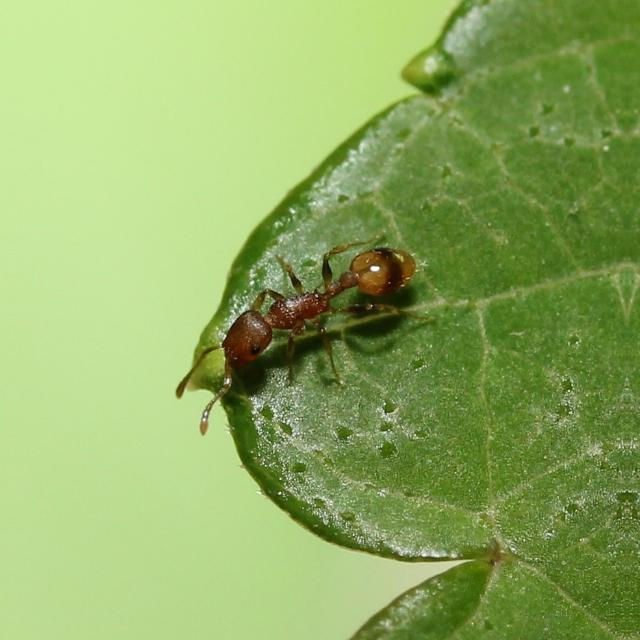Temnothorax: (188, 236, 422, 404)
